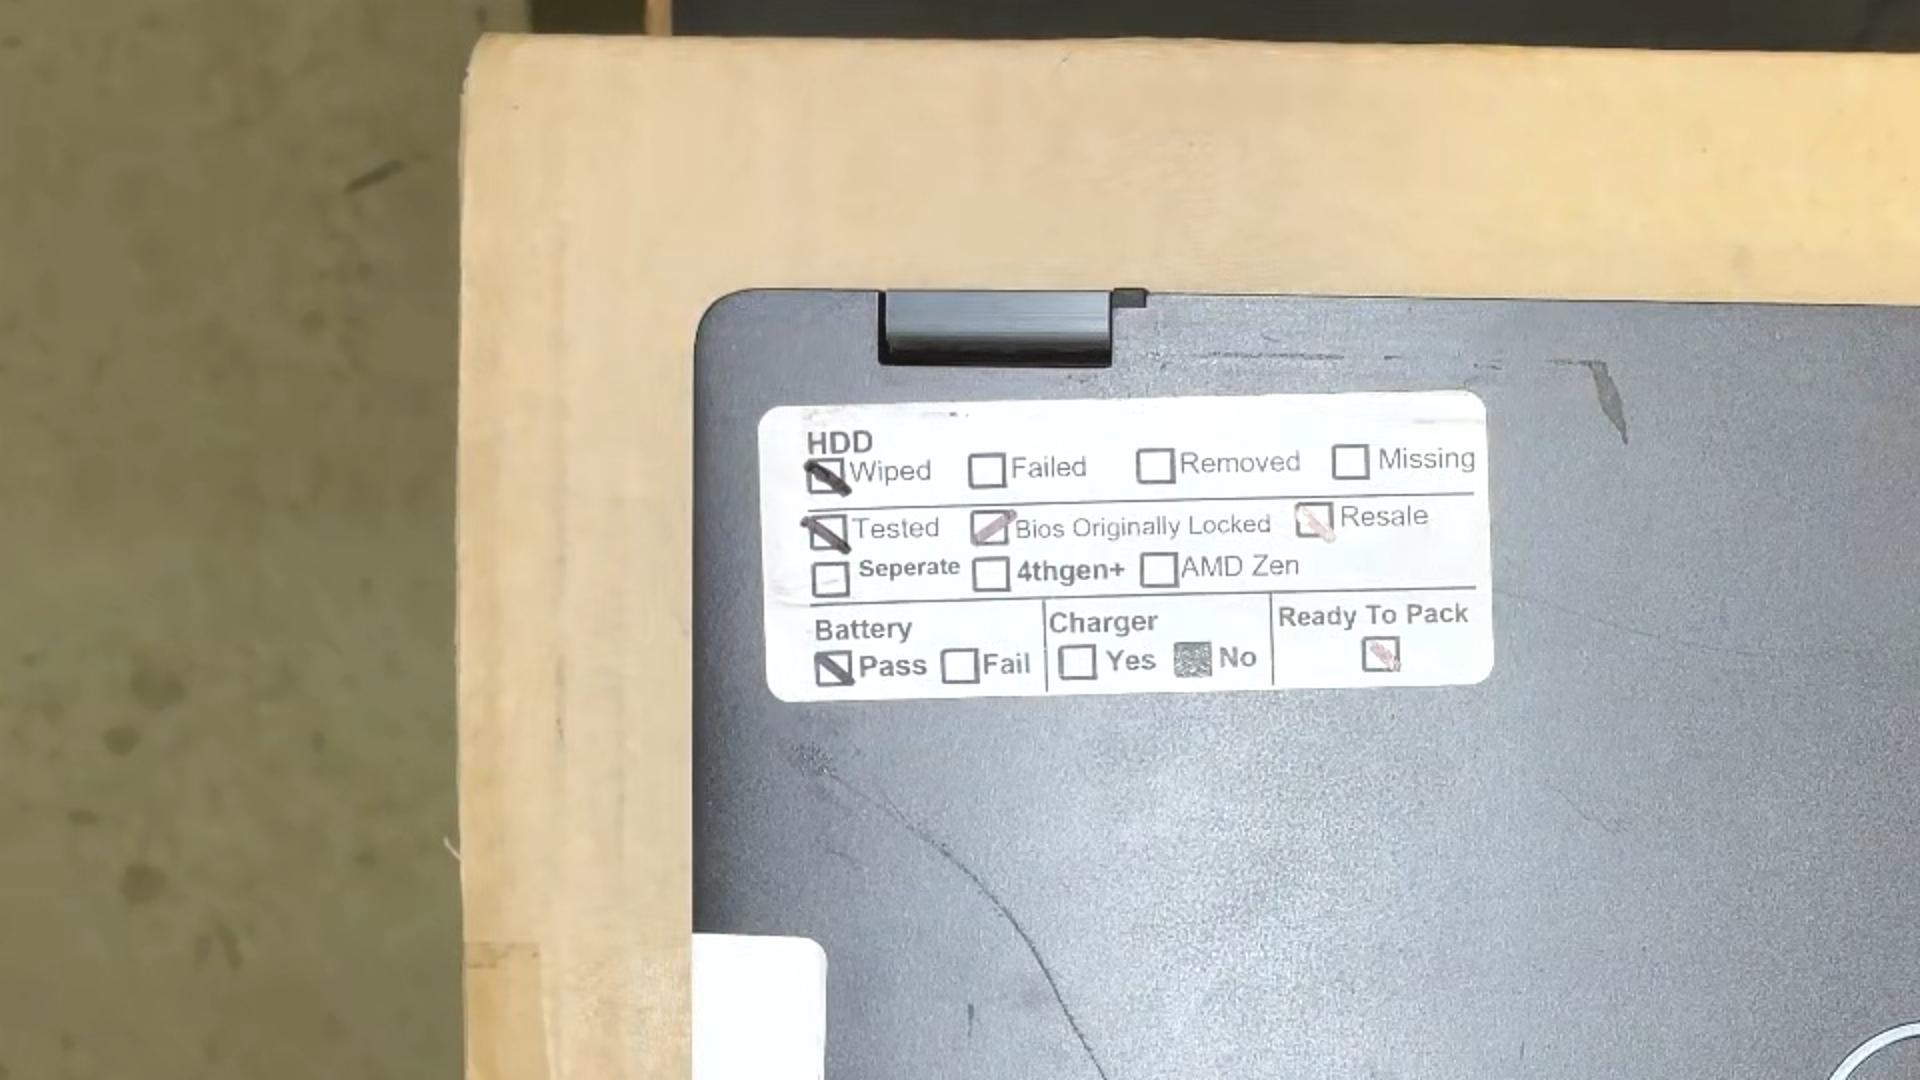chip: (1548, 357, 1630, 442)
scratches: (828, 771, 1112, 1080), (1489, 587, 1857, 662), (1553, 789, 1621, 839), (1185, 351, 1348, 363), (967, 1002, 976, 1039), (1379, 353, 1404, 361), (1518, 1036, 1526, 1062)
